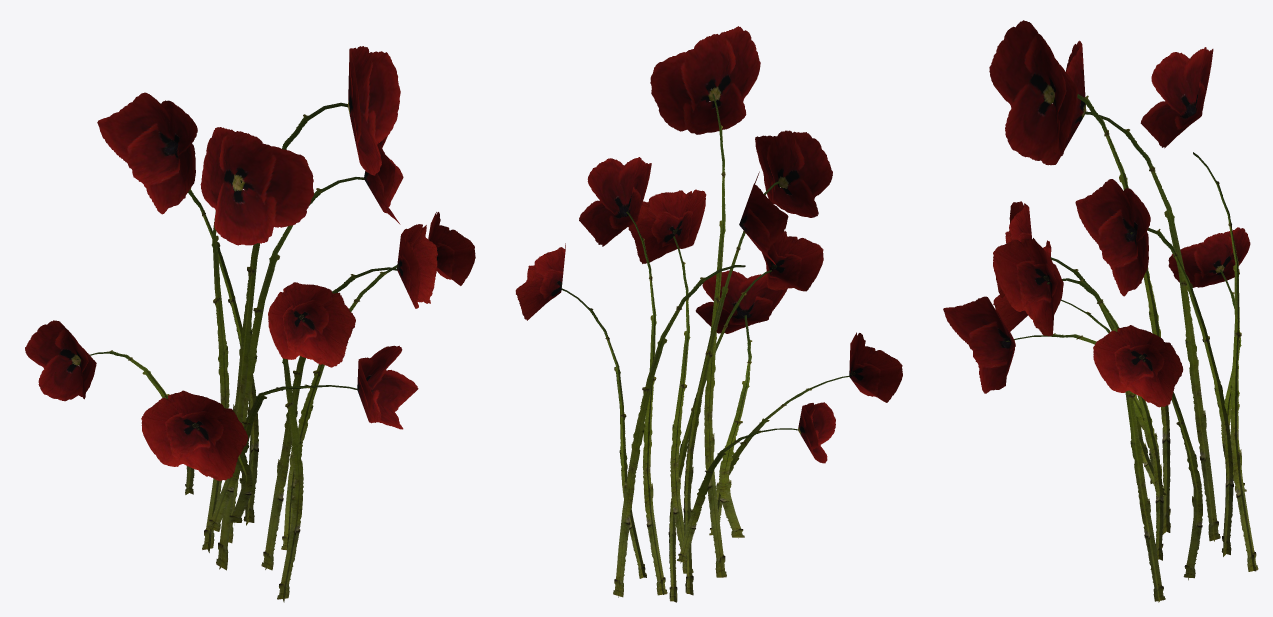
File: M_Coquelicot.fbx
3 renders of one model, left to right at view 1: azimuth 30°, elevation 25°; view 2: azimuth 150°, elevation 25°; view 3: azimuth 270°, elevation 25°, orthographic. The views are drawn at different scales.
Visible parts, largest first — view 1: M_Coquelicot; view 2: M_Coquelicot; view 3: M_Coquelicot.
Boxes of the visible parts, x1=… form: M_Coquelicot: x1=25, y1=46, x2=475, y2=602; M_Coquelicot: x1=515, y1=26, x2=902, y2=602; M_Coquelicot: x1=943, y1=20, x2=1258, y2=602.
Bounding box in the file's own units: 21.22 × 31.7 × 15.58.
